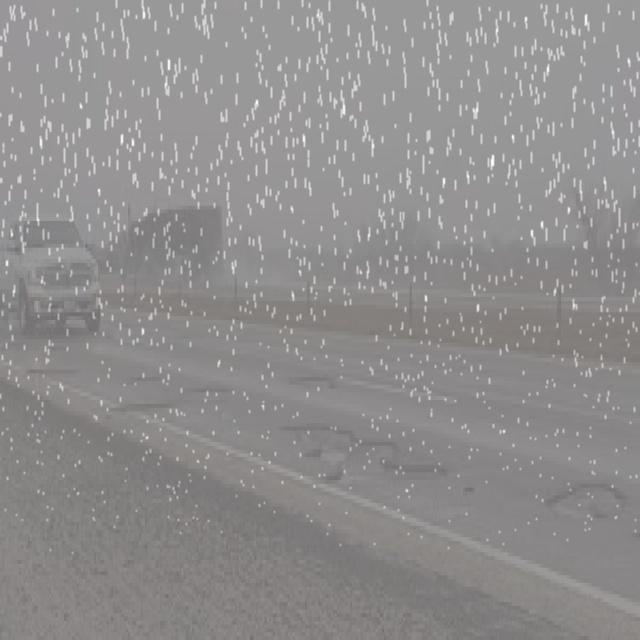Pothole: (284, 418, 449, 502), (534, 475, 634, 531), (106, 398, 176, 426), (292, 372, 349, 396), (181, 386, 236, 399), (22, 368, 90, 378), (133, 374, 166, 387)
